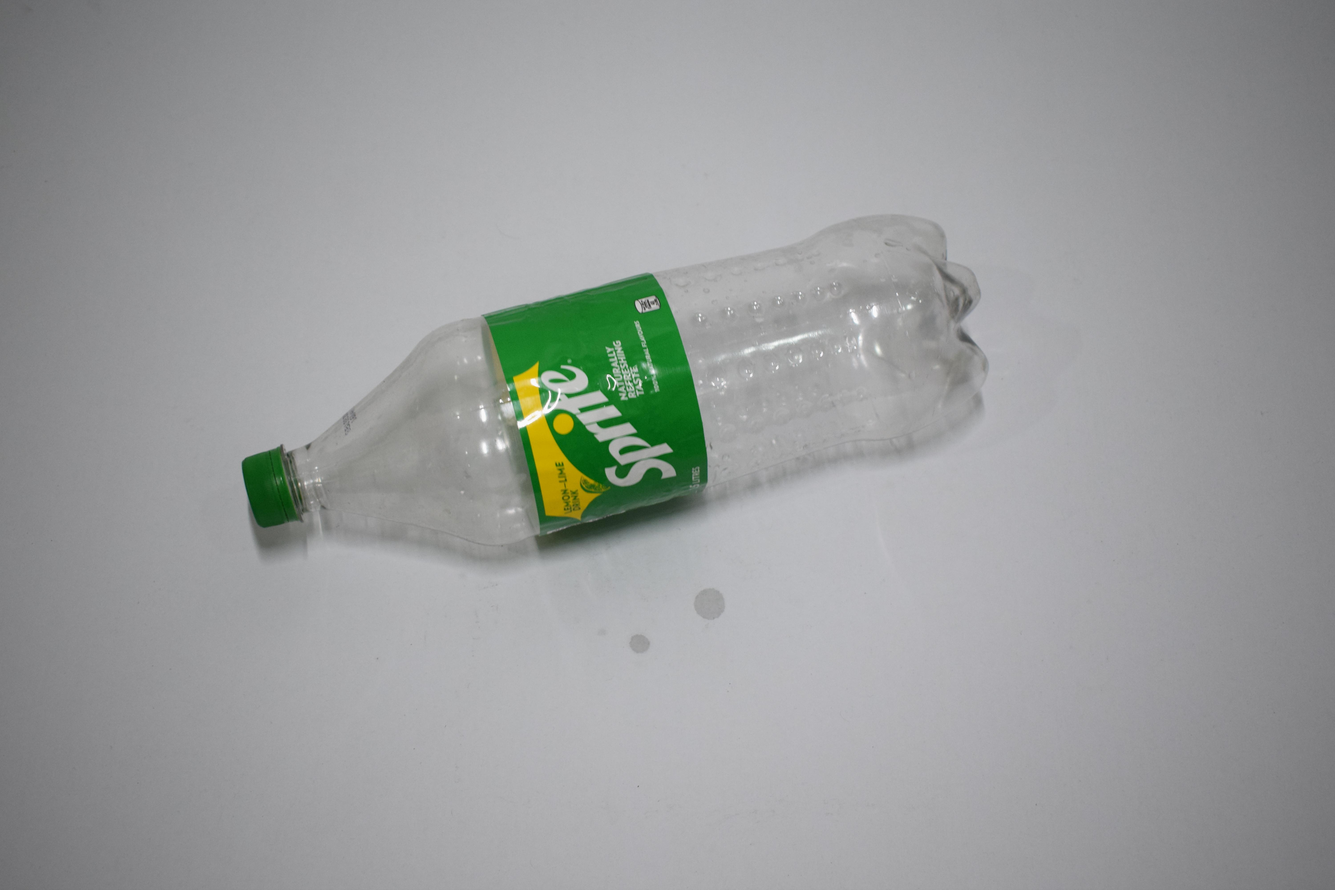plastic: (248, 216, 995, 567)
